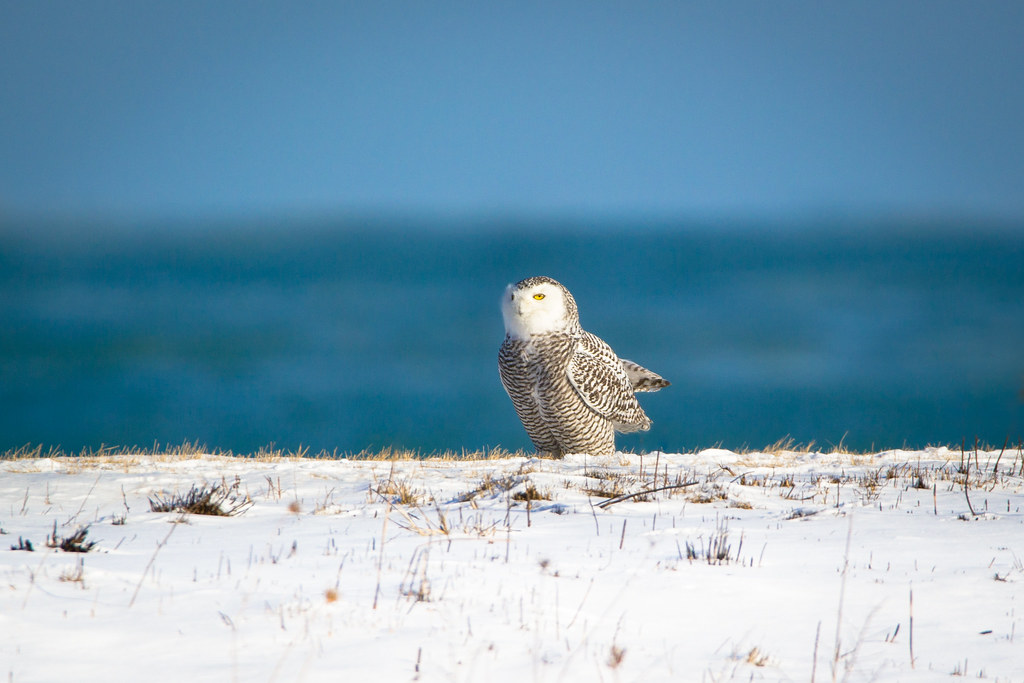bird: (427, 217, 708, 508)
